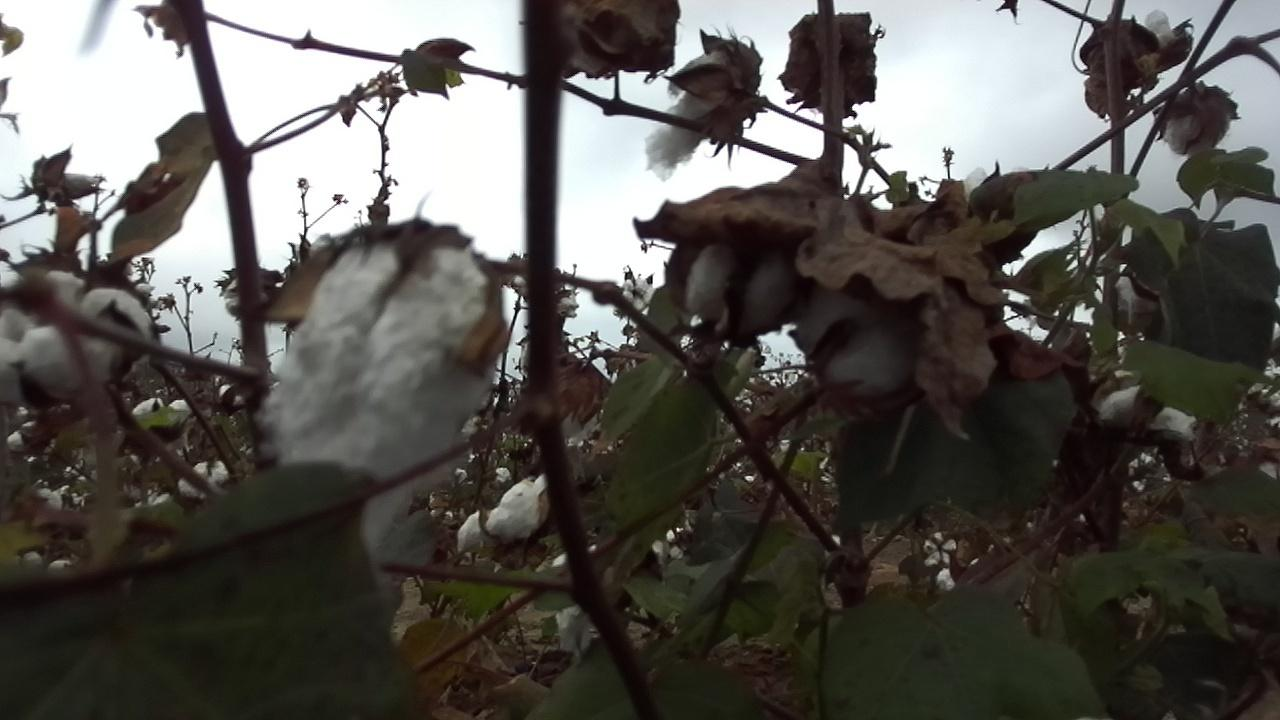cotton_ready: (269, 237, 497, 549), (0, 270, 154, 403), (646, 45, 739, 173), (798, 301, 914, 393), (685, 244, 800, 333), (460, 477, 562, 558), (1095, 389, 1196, 439), (1154, 100, 1225, 154)
